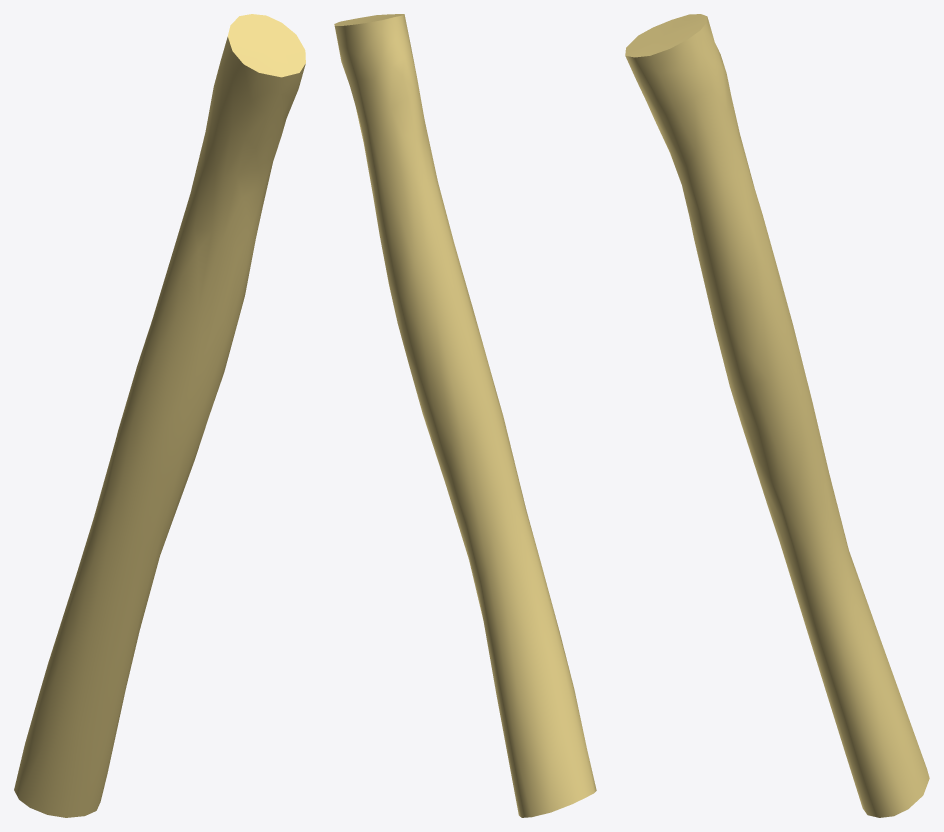
File: fma73637_mm2719.glb
3 renders of one model, left to right at view 1: azimuth 30°, elevation 25°; view 2: azimuth 210°, elevation 25°; view 3: azimuth 270°, elevation 25°, orthographic. The views are drawn at different scales.
Visible parts, largest first — view 1: FMA73637_MM2719; view 2: FMA73637_MM2719; view 3: FMA73637_MM2719.
Part boxes in pixels (left/top/right/bottom): FMA73637_MM2719: left=14, top=14, right=305, bottom=817; FMA73637_MM2719: left=334, top=14, right=596, bottom=817; FMA73637_MM2719: left=625, top=14, right=929, bottom=817.
Bounding box in the file's own units: 0.00329 × 0.016 × 0.00534.
